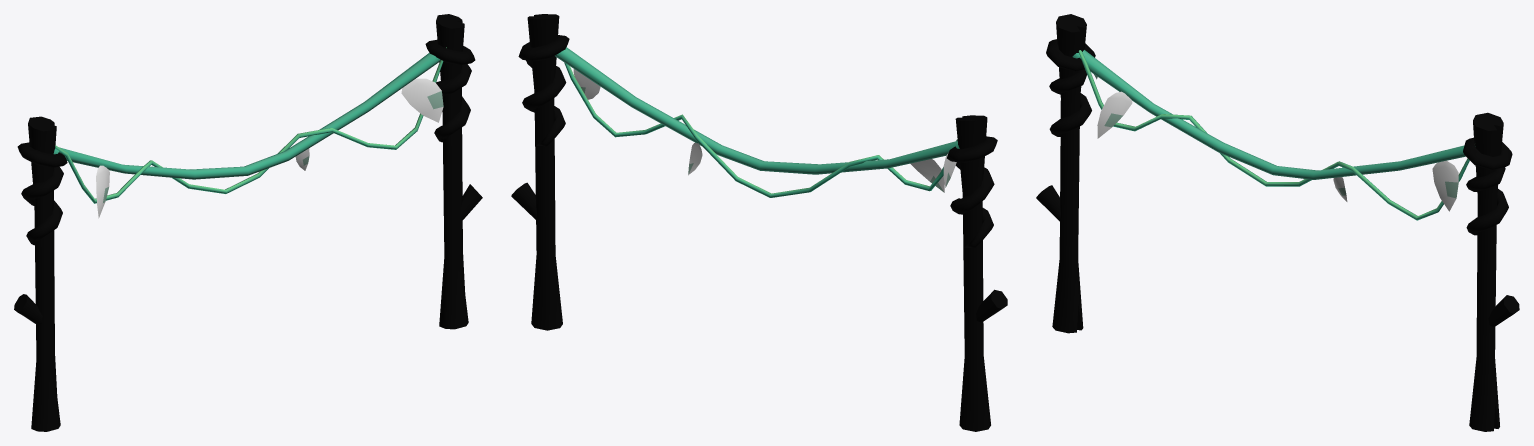
File: JungleVine.glb
3 views of the same model, side by side, from view 1: azimuth 30°, elevation 25°; view 2: azimuth 150°, elevation 25°; view 3: azimuth 330°, elevation 25° (orthographic). The views are drawn at different scales.
Visible parts, largest first — view 1: JungleVine; view 2: JungleVine; view 3: JungleVine.
Part boxes in pixels (bbox=[...]): JungleVine: bbox=[14, 14, 482, 431]; JungleVine: bbox=[511, 14, 1007, 431]; JungleVine: bbox=[1036, 14, 1519, 431].
Size of the model in its own units: 2.29 by 1.41 by 0.2661.
